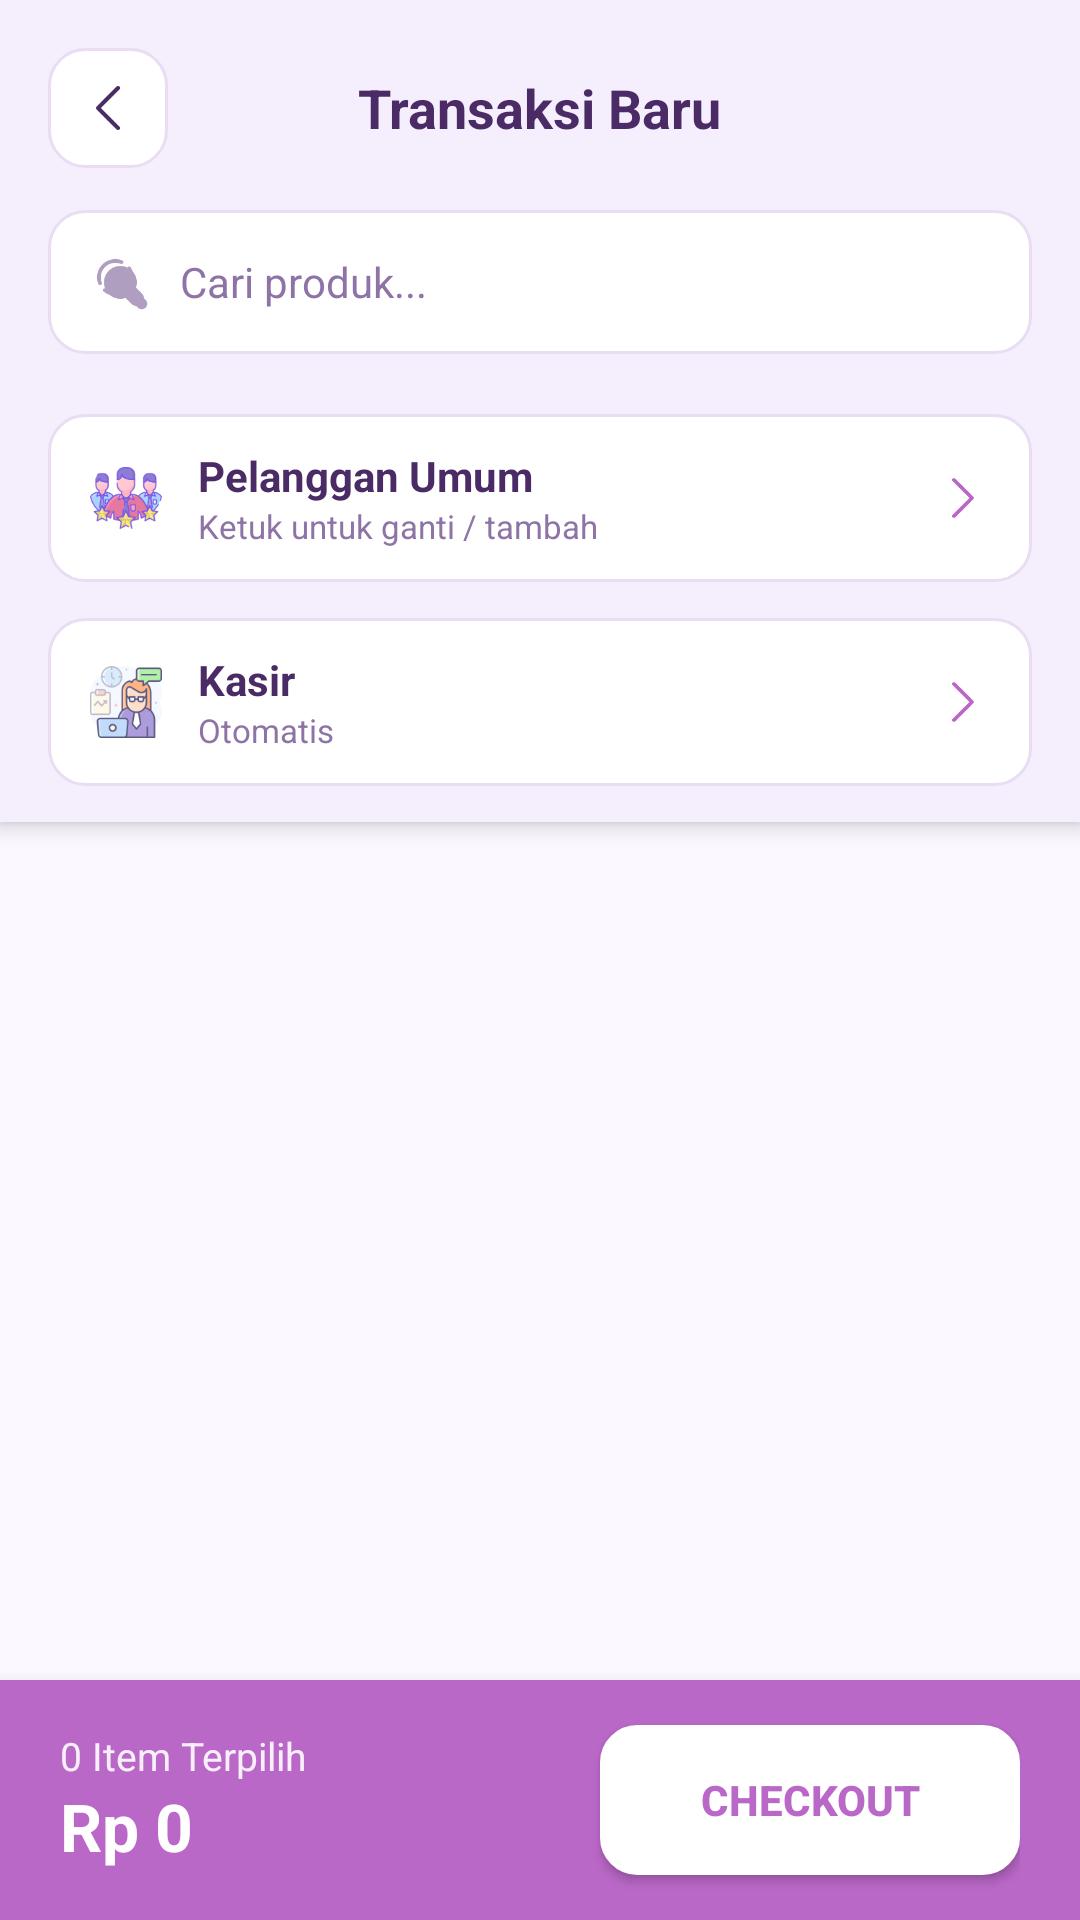

Icons on this 1080 × 1920 Android screen, each with its box as BBox(x1, y1, x2, y2):
arrow: BBox(952, 478, 974, 518), BBox(952, 682, 974, 722)
customer: BBox(90, 467, 162, 529)
employee: BBox(90, 666, 162, 738)
search: BBox(97, 259, 147, 309)
